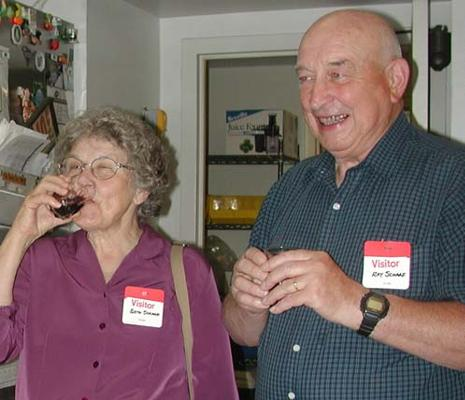person: (1, 107, 241, 400)
